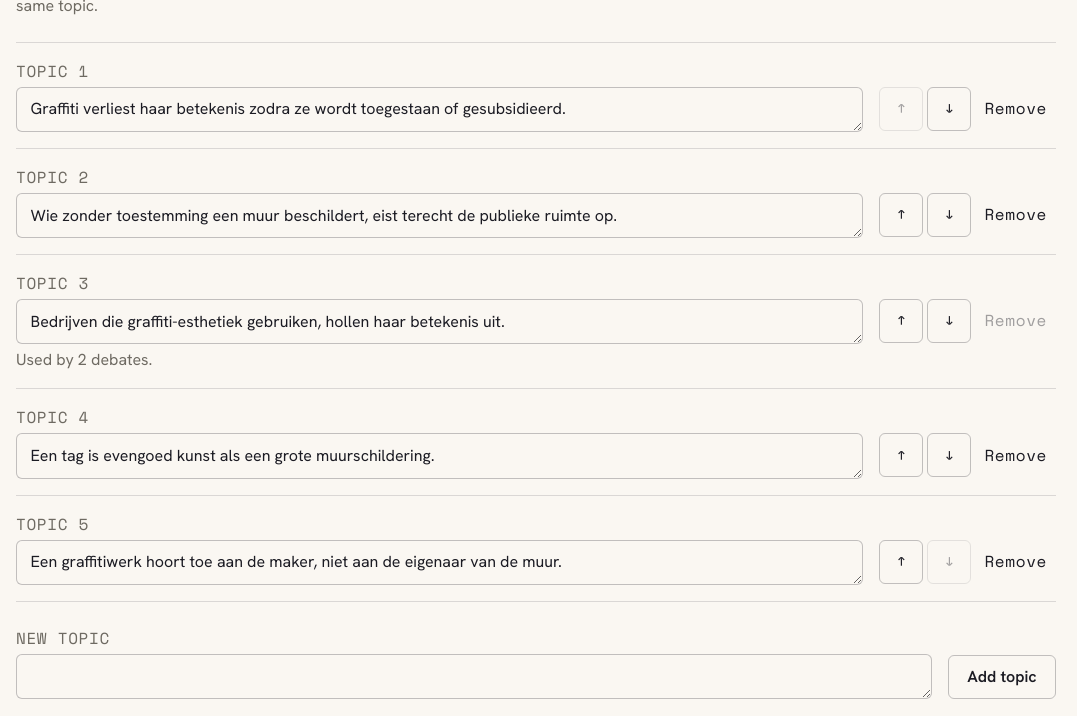
Test: the topics › removes a topic, but keeps the last one and those that debates use
This screenshot has width=1077, height=716.
(page scrolled)
Click the 5th button "Remove" at (1016, 562), box [975,540,1056,584]
(page scrolled)
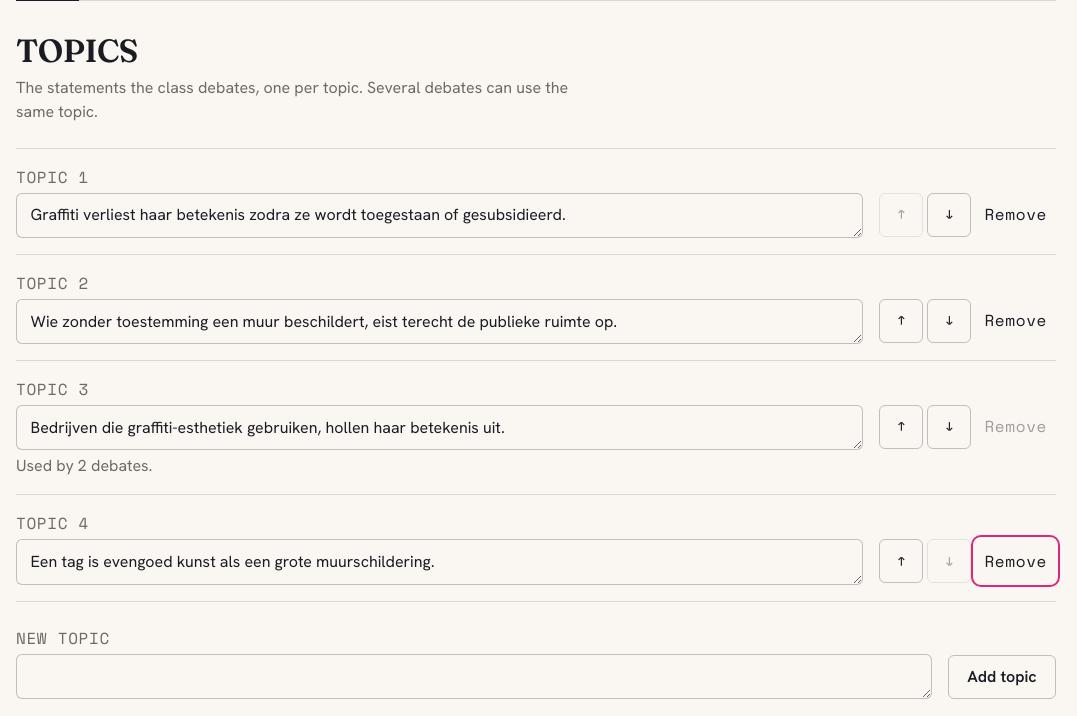
Click the 4th button "Remove" at (1016, 562), box [975,540,1056,584]
(page scrolled)
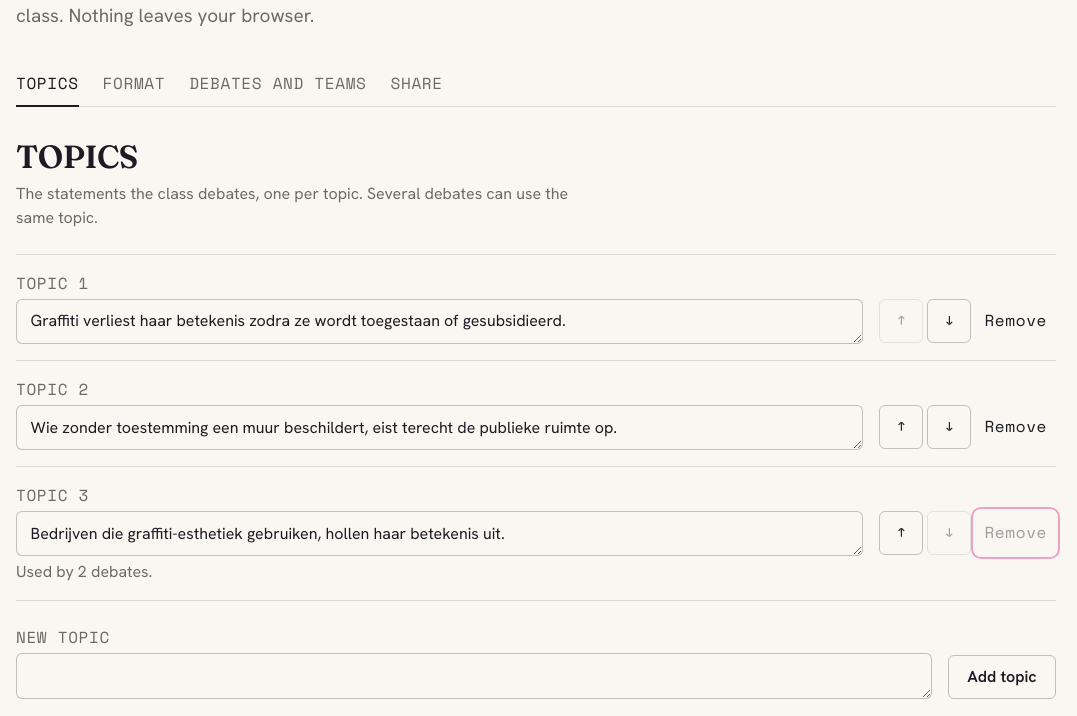
Click the 2nd button "Remove" at (1016, 427), box [975,405,1056,449]
(page scrolled)
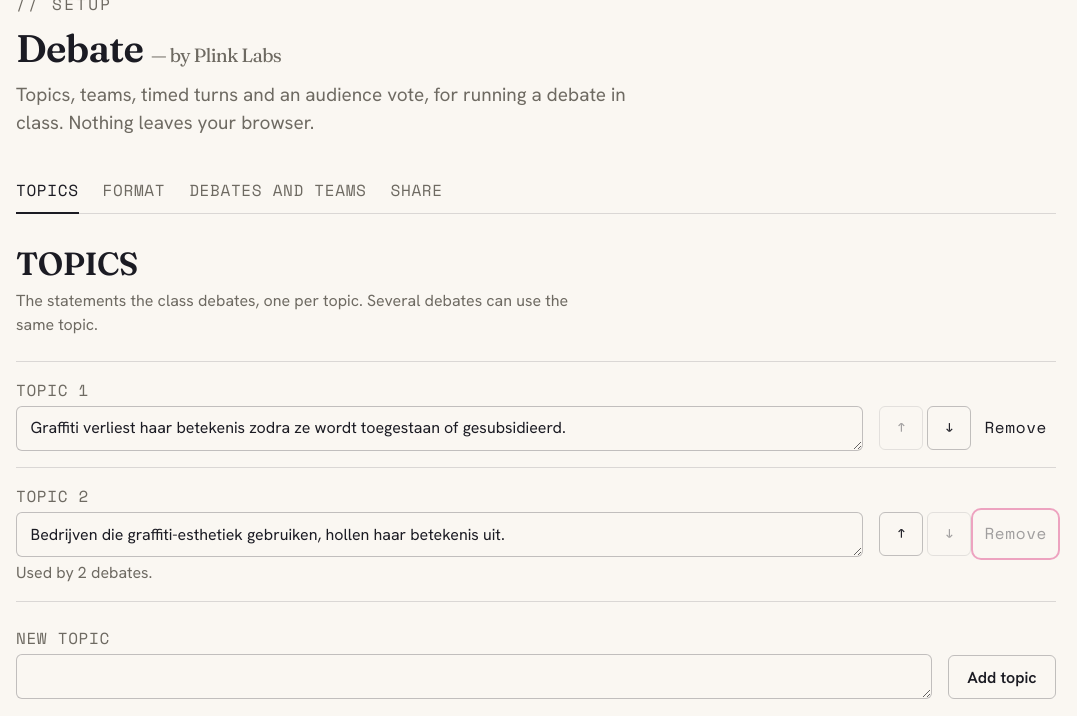
Click the button with aria-label "Remove topic 1" at (1016, 428), box [975,406,1056,450]
(page scrolled)
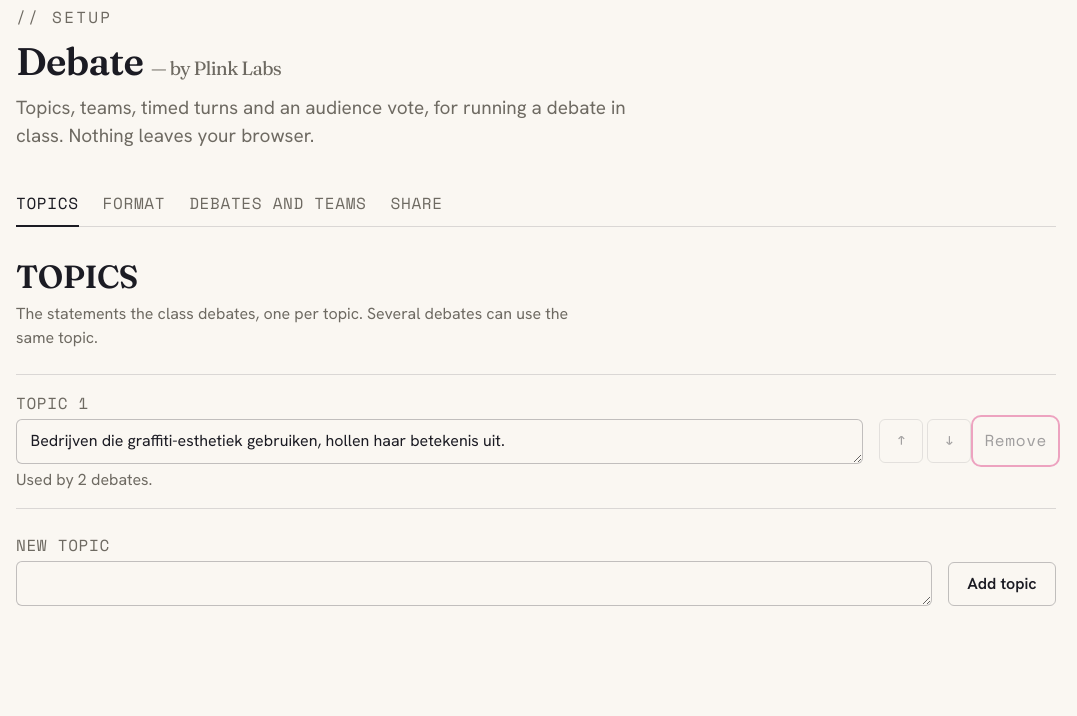
expect the number of list items is 1: met, box [16,375,1056,509]
